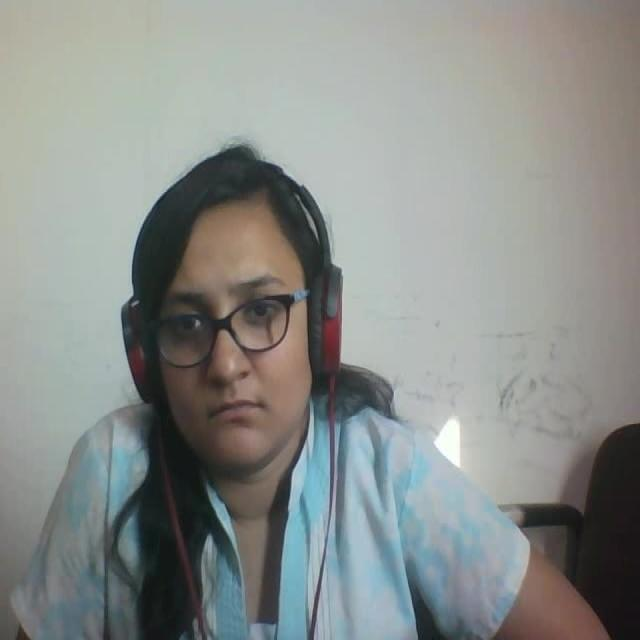Engaged: (88, 124, 384, 504)
